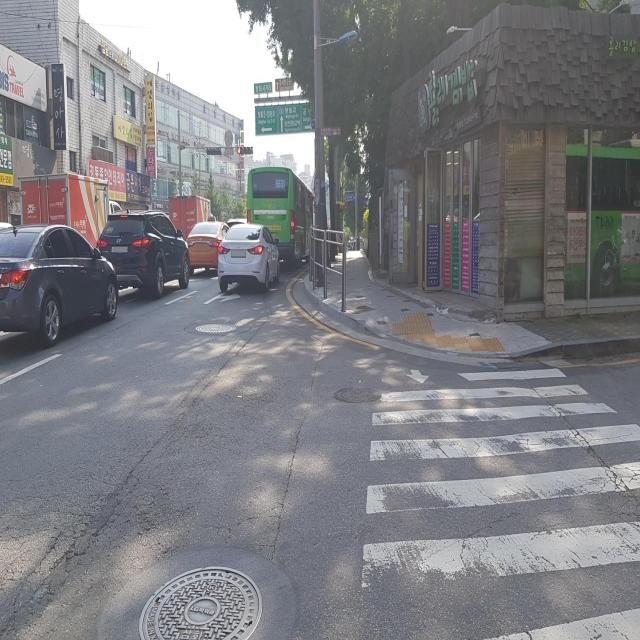횡단보도: (359, 363, 640, 640)
